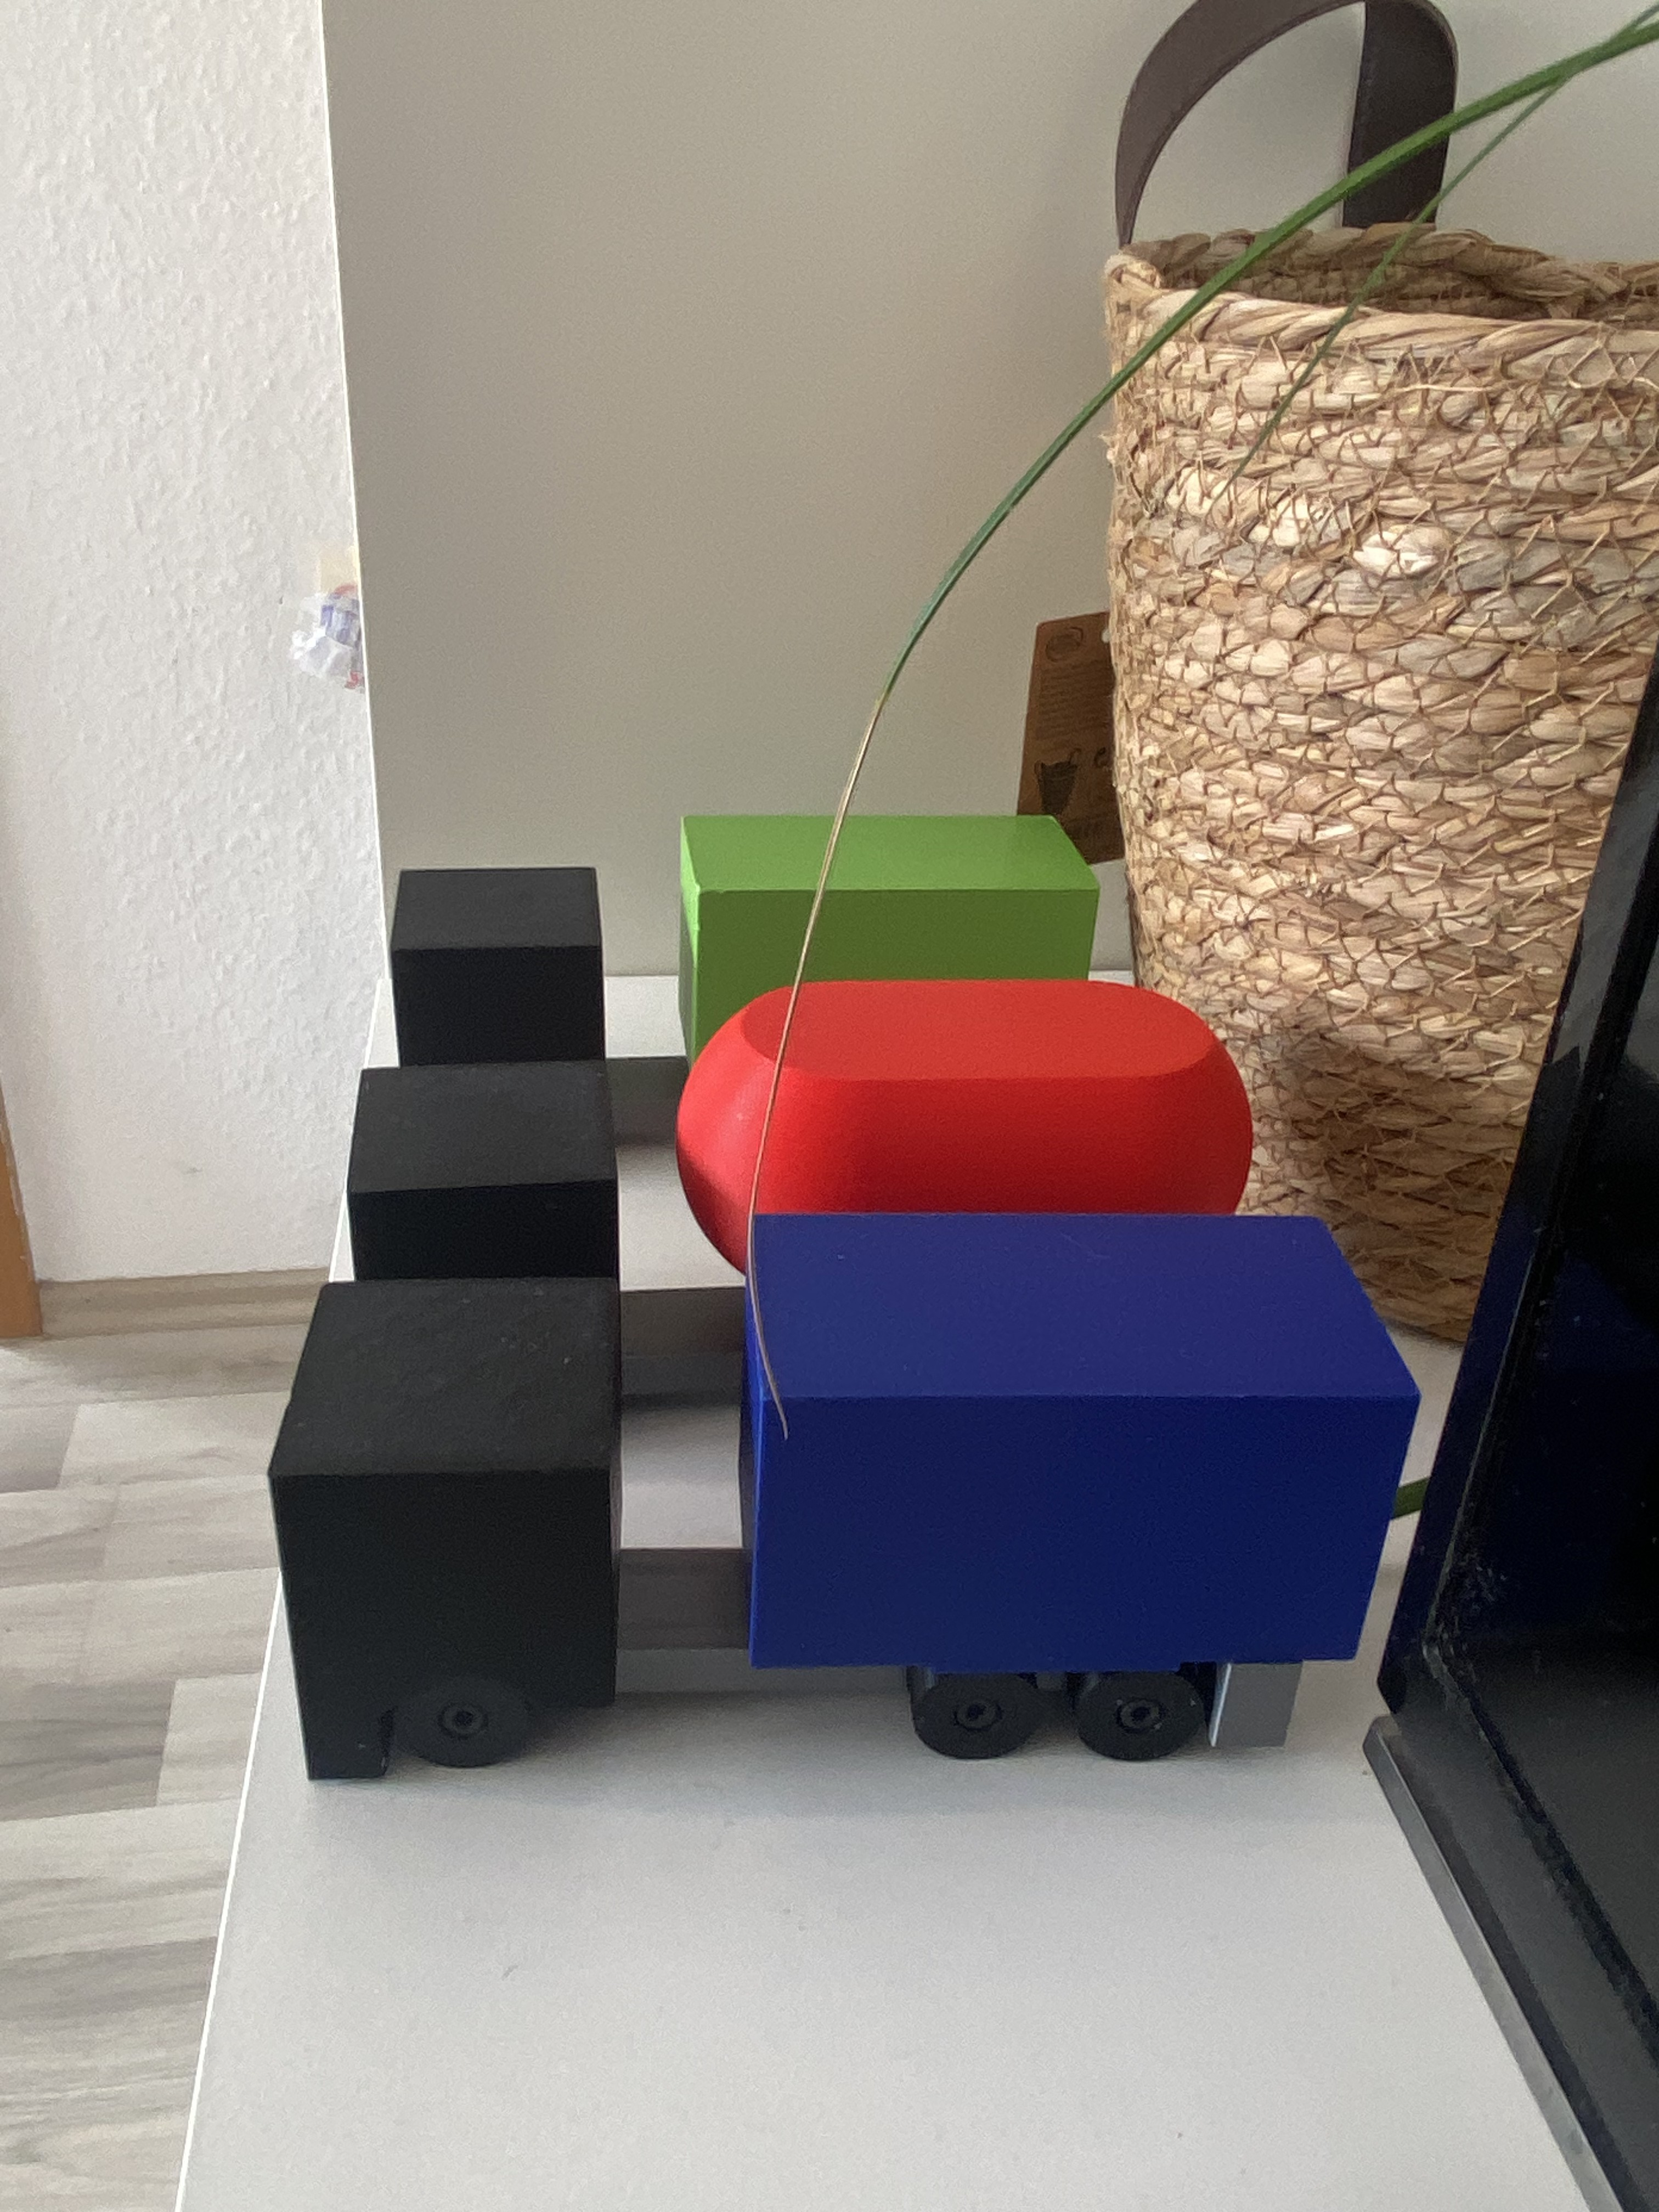blue_truck: (270, 1242, 1422, 1784)
green_truck: (624, 592, 870, 1280)
red_truck: (349, 988, 1249, 1268)
